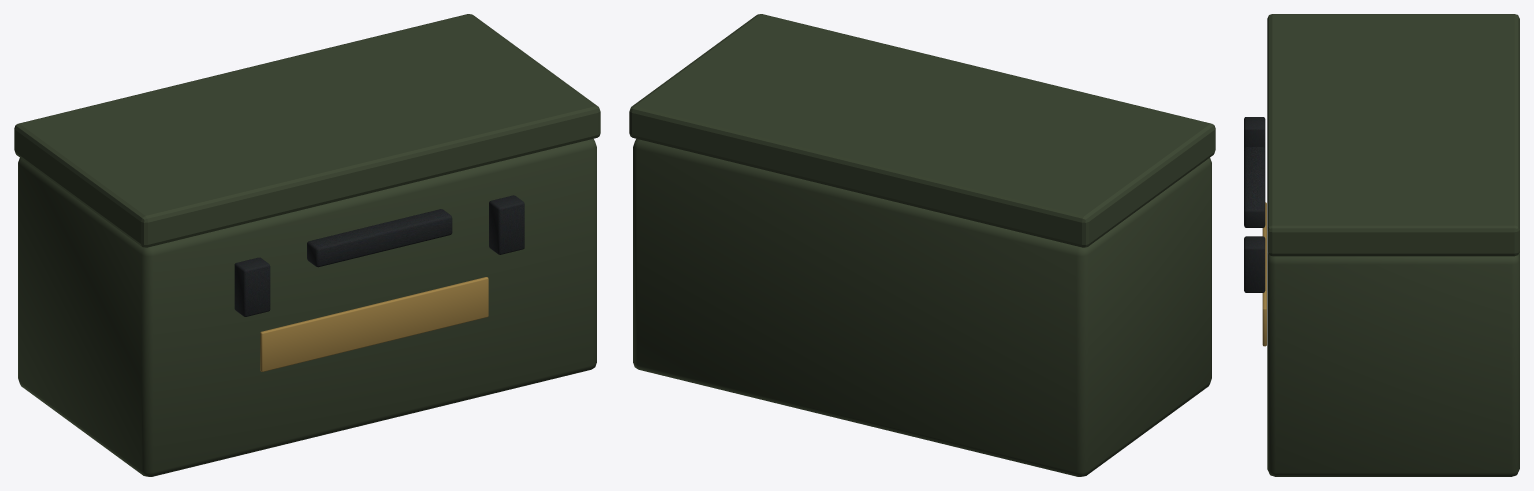
Rendered from prop_ammo_crate.glb.
The picture shows the model from 3 angles, left to right: view 1: azimuth 30°, elevation 25°; view 2: azimuth 150°, elevation 25°; view 3: azimuth 270°, elevation 25°; orthographic projection. The views are drawn at different scales.
Visible parts, largest first — view 1: PropMesh, Lid; view 2: PropMesh, Lid; view 3: Lid, PropMesh.
Part boxes in pixels (x1=…): PropMesh: x1=18, y1=139, x2=596, y2=476; Lid: x1=14, y1=14, x2=600, y2=247; PropMesh: x1=633, y1=139, x2=1211, y2=476; Lid: x1=629, y1=14, x2=1215, y2=247; Lid: x1=1267, y1=14, x2=1519, y2=256; PropMesh: x1=1244, y1=117, x2=1519, y2=476.
Bounding box in the file's own units: 1.21 × 0.665 × 0.655.
Materials: 3 (1 with a texture image).
